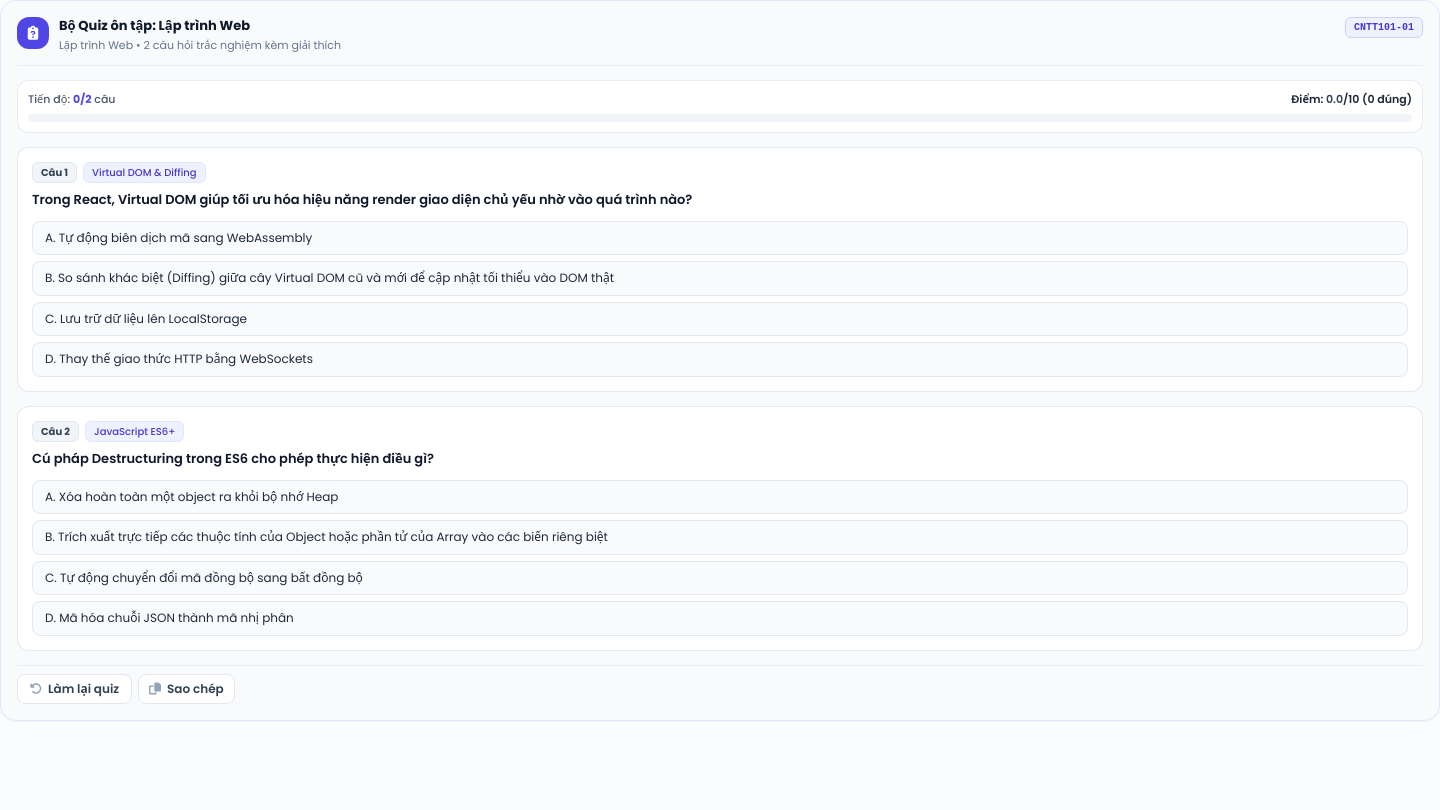
InteractiveQuizCard Component › handles incorrect answer selection, shows correct indicator and rationale
The width and height of the screenshot is (1440, 810).
Click the button "A. Tự động biên dịch mã sang WebAssembly" at [179, 237], box [32,221,1408,255]
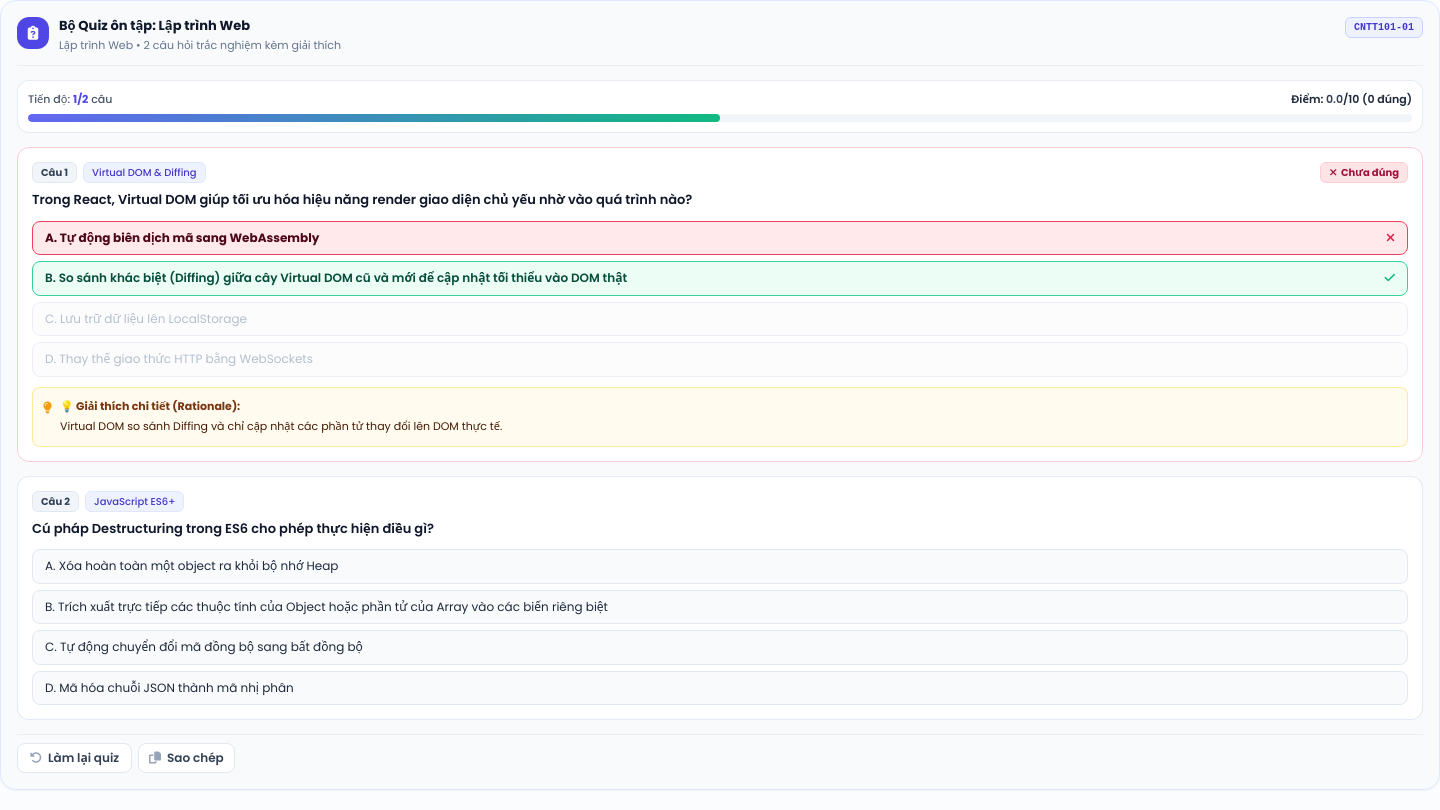
Check: the text "0.0" is shown, box [1326,91,1343,107]
Check: the text "Chưa đúng" is shown, box [1341,165,1399,180]
Check: the text "Virtual DOM so sánh Diffing" is shown, box [60,418,502,434]
